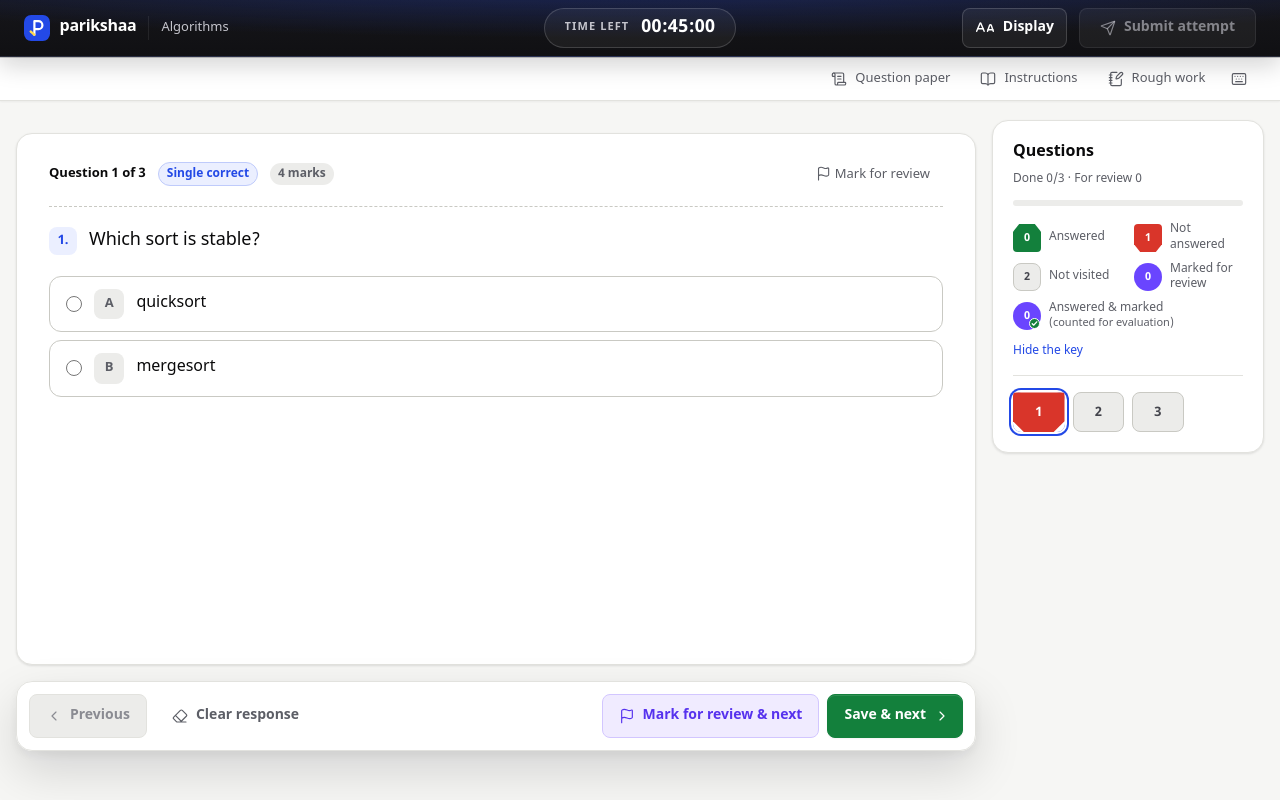
Test: low-bandwidth mode › asks for a follow-up in one plain request, not a stream
Check: the heading "1. Which sort is stable?" is shown, box [49,227,260,255]
Click the radio button labelled "mergesort" at (74, 368), box [66,360,82,376]
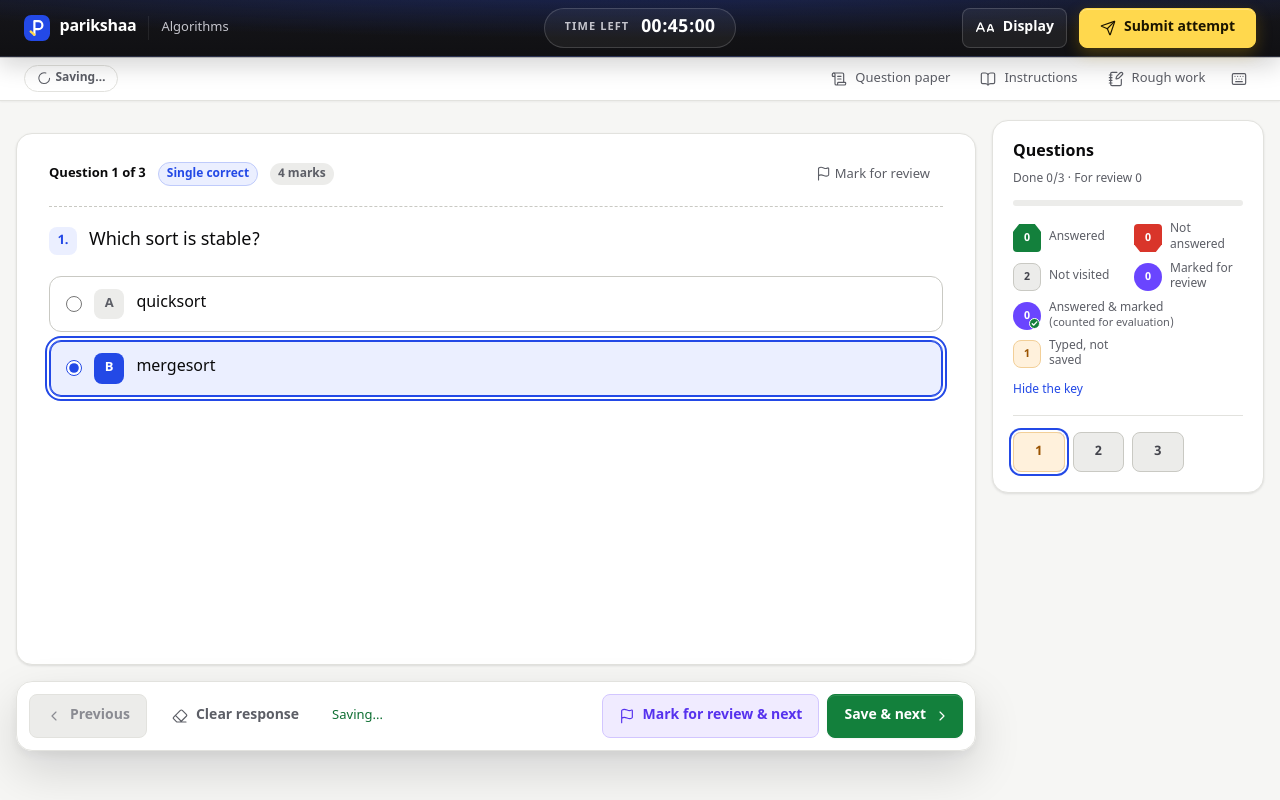
Click the button "Save & next" at (895, 716), box [827,694,963,738]
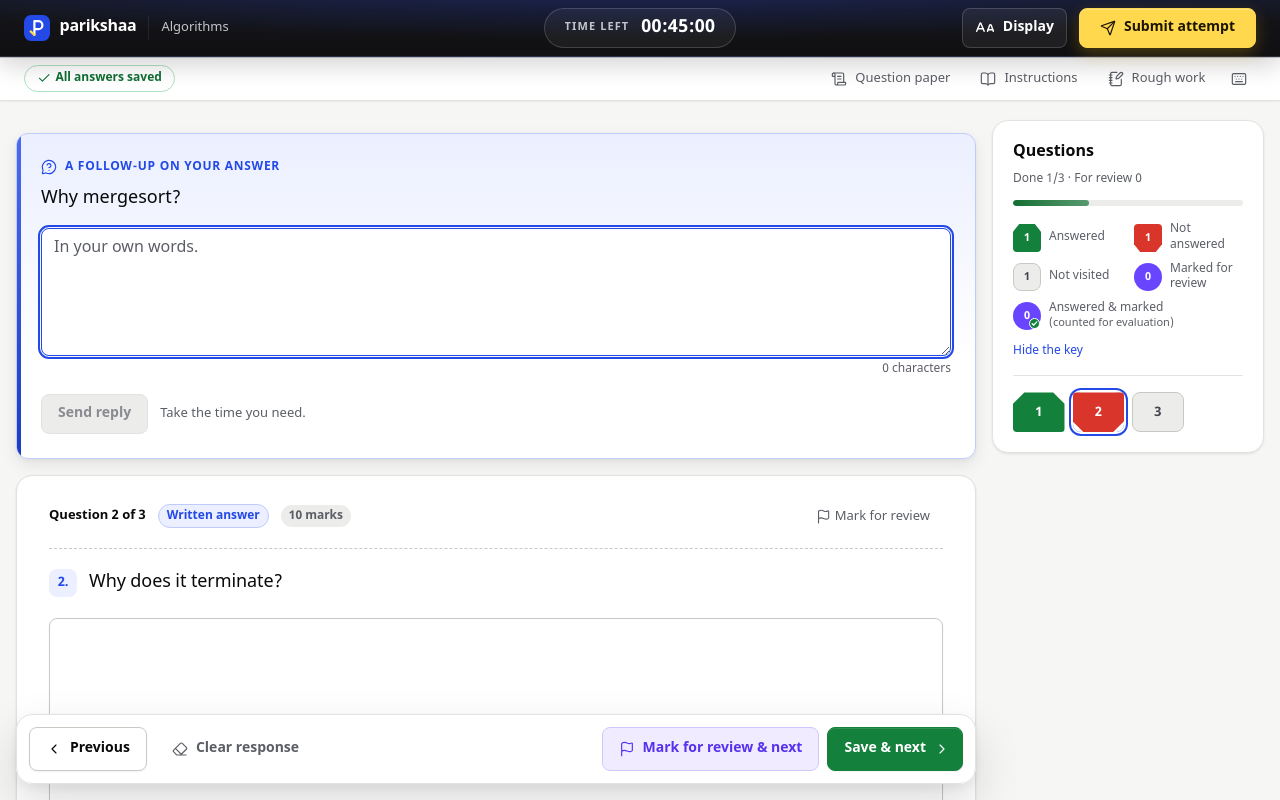
Check: the text "Why mergesort?" is shown, box [41,187,181,210]
